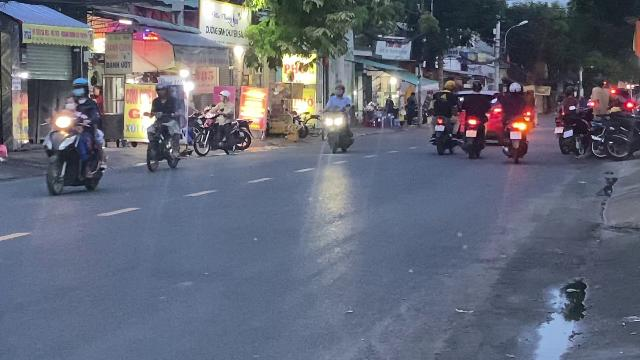helmet: (70, 78, 90, 98), (155, 76, 171, 96)
motorcyclist: (40, 76, 109, 196), (143, 75, 187, 171)
nohelmet: (64, 95, 80, 113)
